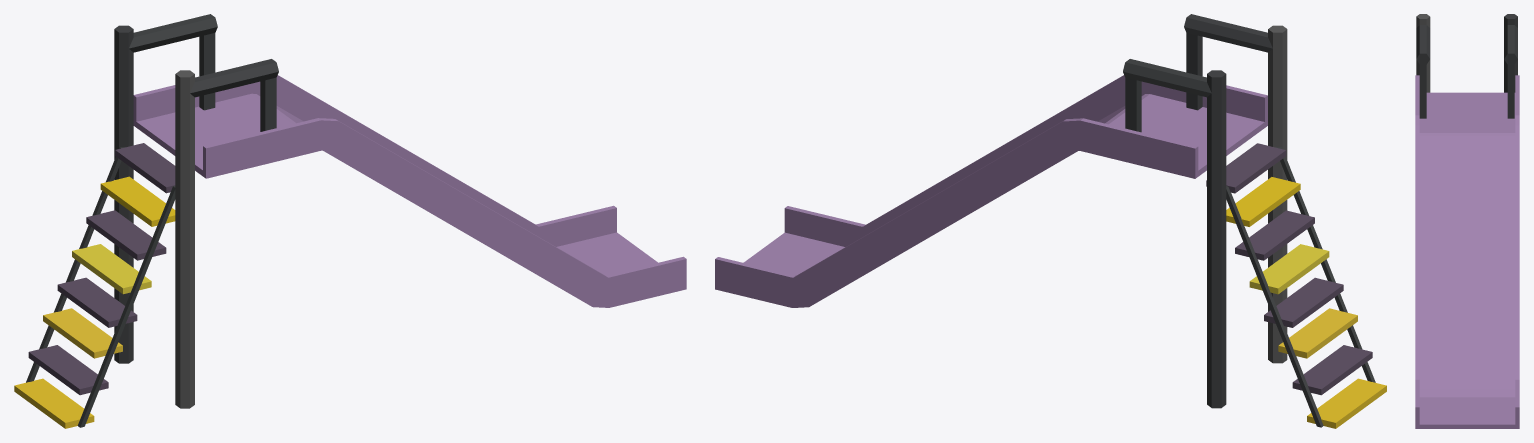
Rendered from Slide.fbx.
The picture shows the model from 3 angles, left to right: view 1: azimuth 30°, elevation 25°; view 2: azimuth 150°, elevation 25°; view 3: azimuth 270°, elevation 25°; orthographic projection. The views are drawn at different scales.
Parts seen in each view (by area): view 1: Cube.008, Cylinder.003, Cylinder, Cylinder.001, Cylinder.002, Cube.010, Cube, Cube.001, Cube.002, Cube.003, Cube.005, Cube.004 (+3 smaller); view 2: Cube.008, Cylinder, Cylinder.003, Cylinder.002, Cylinder.001, Cube.009, Cube.001, Cube, Cube.002, Cube.004, Cube.003, Cube.005 (+3 smaller); view 3: Cube.008, Cylinder.002, Cylinder.001, Cylinder.003, Cylinder.
Part boxes in pixels (bbox=[...]): Cube.008: bbox=[133, 75, 686, 307]; Cylinder.003: bbox=[175, 70, 194, 408]; Cylinder: bbox=[114, 25, 133, 363]; Cylinder.001: bbox=[129, 14, 217, 110]; Cylinder.002: bbox=[190, 59, 278, 131]; Cube.010: bbox=[77, 186, 175, 427]; Cube: bbox=[14, 378, 94, 428]; Cube.001: bbox=[28, 345, 108, 395]; Cube.002: bbox=[43, 308, 122, 358]; Cube.003: bbox=[57, 277, 137, 327]; Cube.005: bbox=[86, 210, 166, 260]; Cube.004: bbox=[72, 244, 151, 294]; Cube.008: bbox=[715, 75, 1267, 307]; Cylinder: bbox=[1207, 70, 1226, 408]; Cylinder.003: bbox=[1268, 25, 1287, 363]; Cylinder.002: bbox=[1184, 14, 1272, 110]; Cylinder.001: bbox=[1123, 59, 1211, 132]; Cube.009: bbox=[1226, 186, 1323, 427]; Cube.001: bbox=[1292, 345, 1372, 395]; Cube: bbox=[1307, 378, 1386, 428]; Cube.002: bbox=[1278, 308, 1357, 358]; Cube.004: bbox=[1249, 244, 1329, 294]; Cube.003: bbox=[1264, 277, 1343, 327]; Cube.005: bbox=[1235, 210, 1314, 260]; Cube.008: bbox=[1415, 75, 1519, 428]; Cylinder.002: bbox=[1416, 25, 1430, 118]; Cylinder.001: bbox=[1504, 25, 1517, 118]; Cylinder.003: bbox=[1416, 14, 1430, 92]; Cylinder: bbox=[1504, 14, 1517, 92].
Bounding box in the file's own units: 4239 × 2206 × 875.
